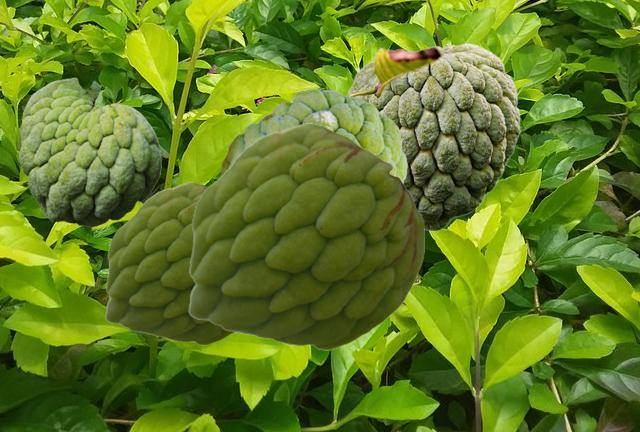atis: (188, 123, 423, 349), (347, 42, 519, 230), (19, 77, 160, 226), (105, 182, 234, 344), (218, 89, 406, 184)
